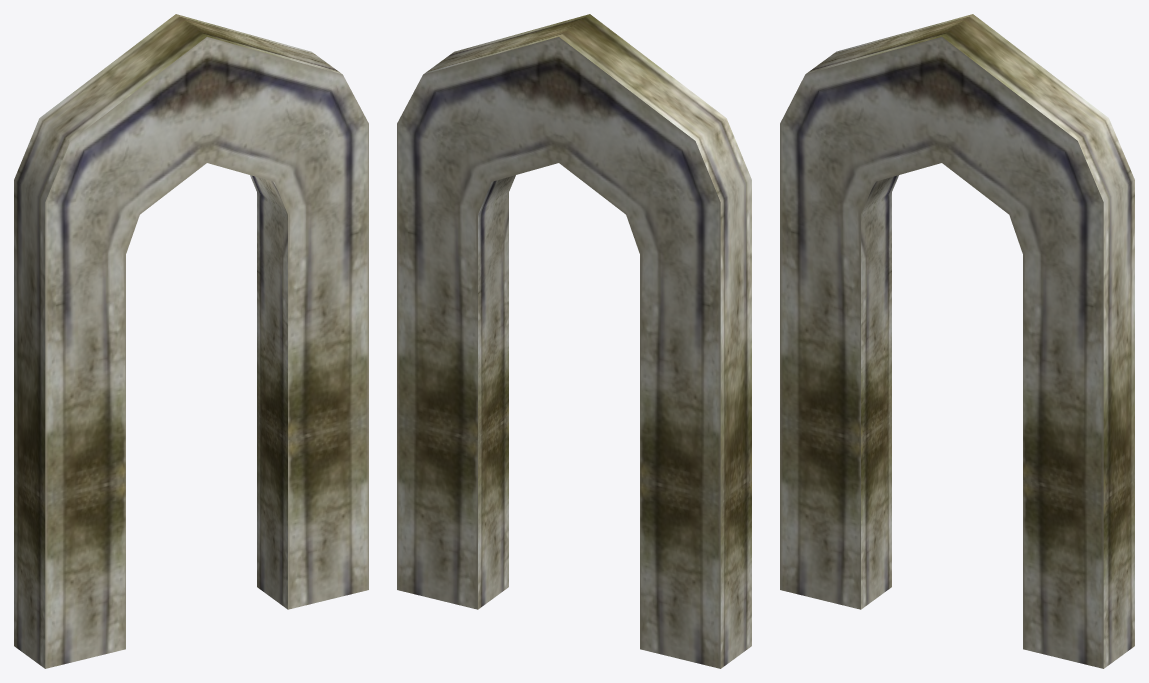
Rendered from smallstucco_arch.fbx.
The picture shows the model from 3 angles, left to right: view 1: azimuth 30°, elevation 25°; view 2: azimuth 150°, elevation 25°; view 3: azimuth 330°, elevation 25°; orthographic projection.
Parts seen in each view (by area): view 1: arch_high; view 2: arch_high; view 3: arch_high.
Boxes of the visible parts, x1,y1,x2,y2 form: arch_high: [14, 14, 368, 668]; arch_high: [397, 14, 751, 668]; arch_high: [780, 14, 1134, 668].
Size of the model in its own units: 1200 by 2100 by 200.
Materials: 1 (1 with a texture image).
